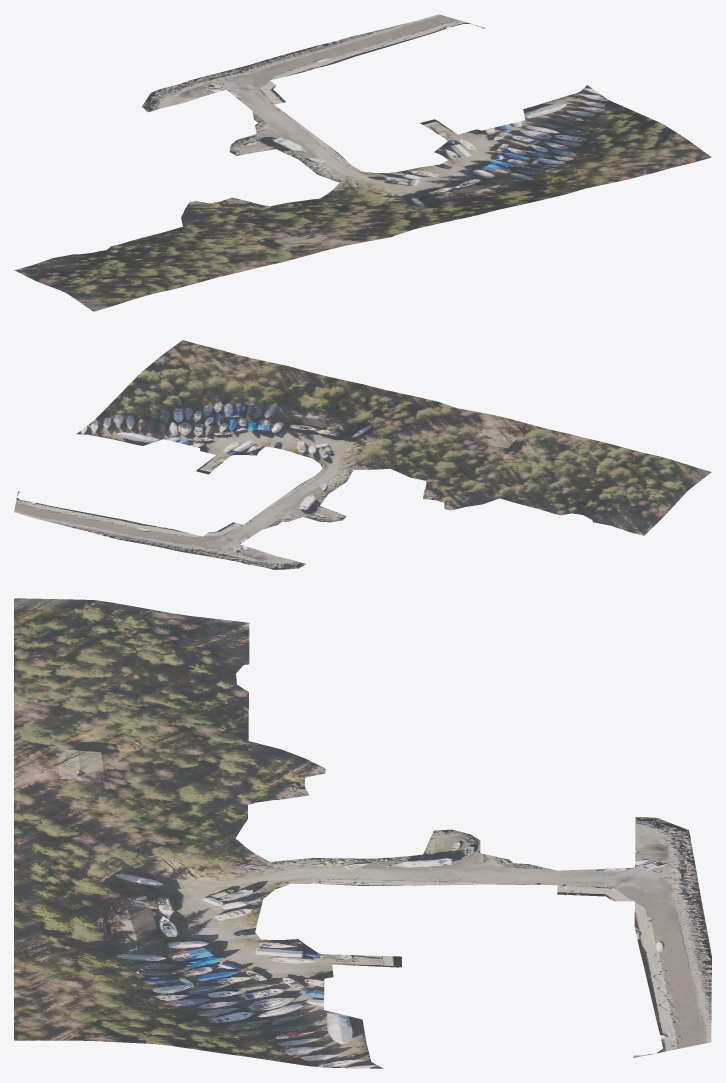
File: CM_Terrain_24488820_6822865.fbx
The picture shows the model from 3 angles, top to bottom: view 1: azimuth 30°, elevation 25°; view 2: azimuth 150°, elevation 25°; view 3: azimuth 270°, elevation 25°; orthographic projection. The views are drawn at different scales.
Parts seen in each view (by area): view 1: CM_Terrain_24488820_6822865_LOD0; view 2: CM_Terrain_24488820_6822865_LOD0; view 3: CM_Terrain_24488820_6822865_LOD0.
Boxes of the visible parts, x1,y1,x2,y2 form: CM_Terrain_24488820_6822865_LOD0: [14, 14, 711, 311]; CM_Terrain_24488820_6822865_LOD0: [14, 340, 711, 569]; CM_Terrain_24488820_6822865_LOD0: [14, 598, 711, 1068].
Size of what is drawn, in the model's own units: 205 by 7.33 by 135.
